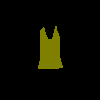canottiera: (37, 26, 63, 68)
